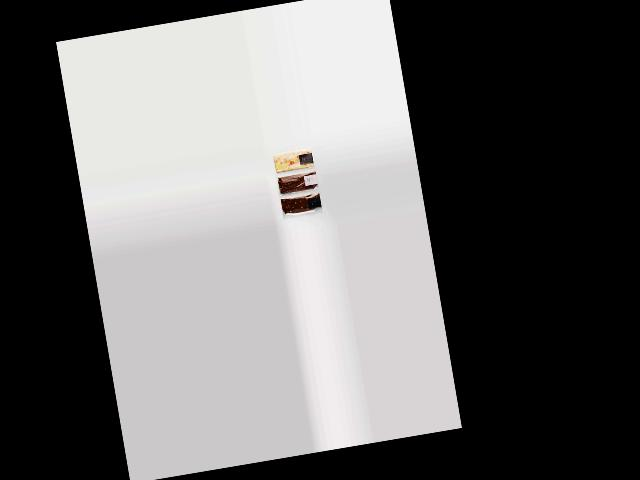chocolate: (278, 193, 322, 218)
